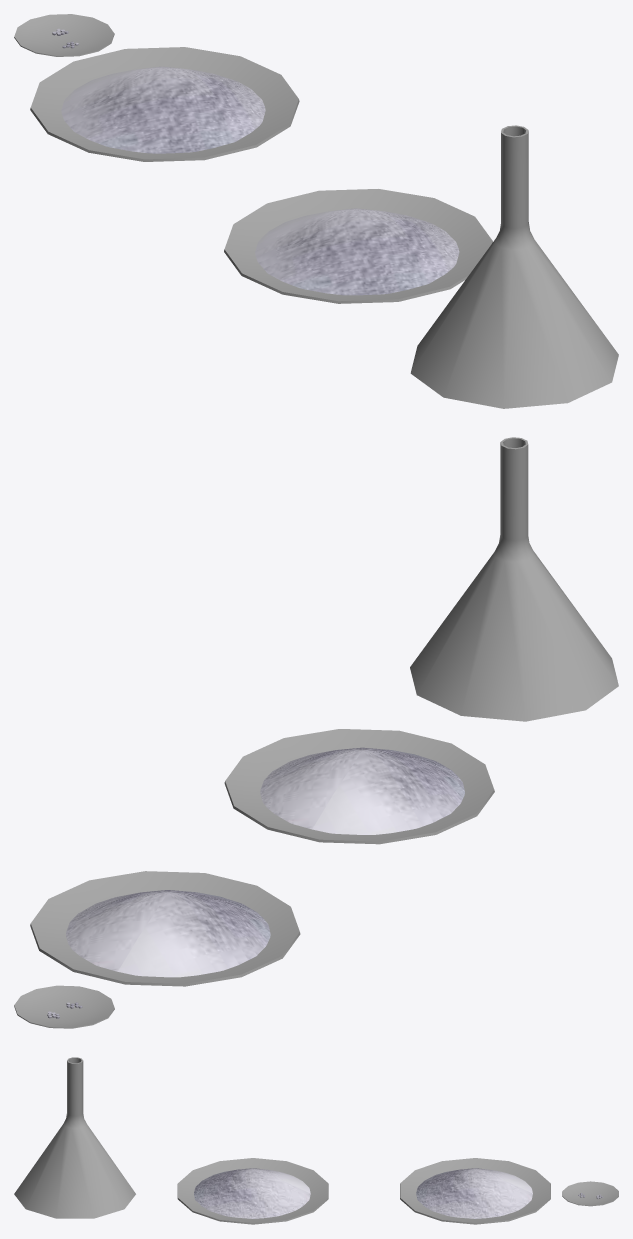
Rendered from Sublimation.fbx.
3 renders of one model, top to bottom at view 1: azimuth 30°, elevation 25°; view 2: azimuth 150°, elevation 25°; view 3: azimuth 270°, elevation 25°, orthographic. The views are drawn at different scales.
Visible parts, largest first — view 1: pCone5, powder2, plate3, naphthalene7; view 2: pCone5, powder2, plate3, naphthalene7; view 3: pCone5, plate3, powder2, naphthalene7.
Part boxes in pixels (box(x1,y1,x2,y2)): pCone5: box(410, 125, 618, 408); powder2: box(30, 47, 299, 161); plate3: box(224, 189, 492, 303); naphthalene7: box(14, 14, 114, 56); pCone5: box(410, 437, 618, 721); powder2: box(30, 871, 300, 986); plate3: box(224, 729, 494, 844); naphthalene7: box(14, 985, 114, 1028); pCone5: box(14, 1057, 135, 1218); plate3: box(177, 1158, 328, 1224); powder2: box(400, 1158, 550, 1224); naphthalene7: box(562, 1181, 618, 1206).
Bounding box in the file's own units: 27.98 × 27.88 × 109.
Materials: 2 (1 with a texture image).
